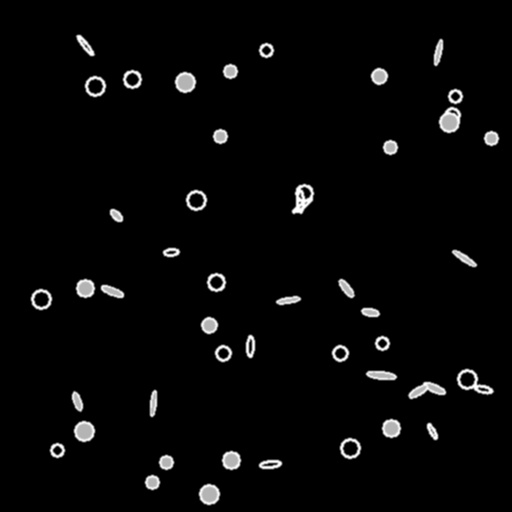pseudomonas: (452, 249, 476, 267), (76, 34, 94, 56), (407, 382, 429, 400), (291, 196, 313, 214), (422, 380, 446, 396), (337, 278, 355, 298), (100, 284, 124, 298), (366, 370, 396, 380), (433, 39, 443, 65), (109, 207, 123, 223), (71, 392, 83, 410), (149, 390, 157, 416), (260, 459, 280, 469), (473, 384, 493, 394), (426, 423, 438, 439), (246, 335, 254, 357), (277, 296, 299, 304), (297, 190, 303, 212), (362, 308, 378, 316), (163, 248, 179, 256)
synechocystis: (200, 485, 218, 503), (458, 370, 476, 388), (176, 73, 194, 91), (86, 77, 104, 95), (341, 439, 359, 457), (187, 191, 205, 209), (32, 290, 50, 308), (75, 422, 93, 440), (440, 113, 458, 131), (124, 71, 140, 87), (208, 274, 224, 290), (77, 280, 93, 296), (223, 452, 239, 468), (383, 420, 399, 436), (296, 185, 312, 201), (333, 346, 347, 360), (445, 108, 459, 122), (202, 318, 216, 332), (216, 346, 230, 360), (372, 69, 386, 83), (485, 132, 497, 144), (449, 90, 461, 102), (376, 337, 388, 349), (384, 141, 396, 153), (214, 130, 226, 142), (51, 444, 63, 456), (160, 456, 172, 468), (260, 44, 272, 56), (146, 476, 158, 488), (224, 65, 236, 77)
